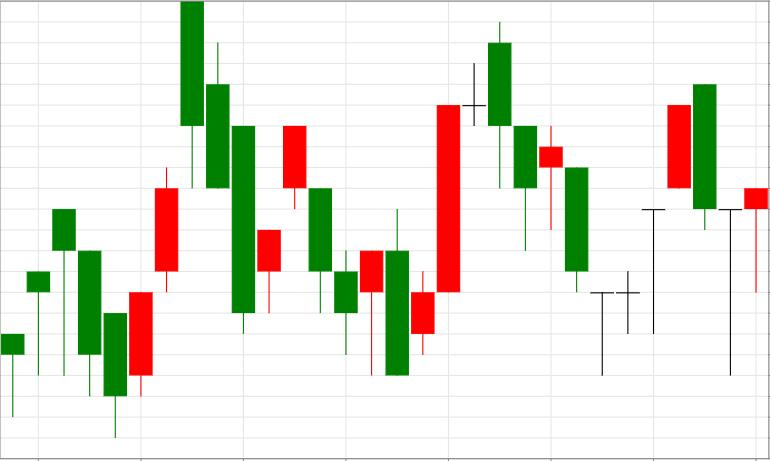bearish_engulfing_fall: (591, 84, 716, 377)
